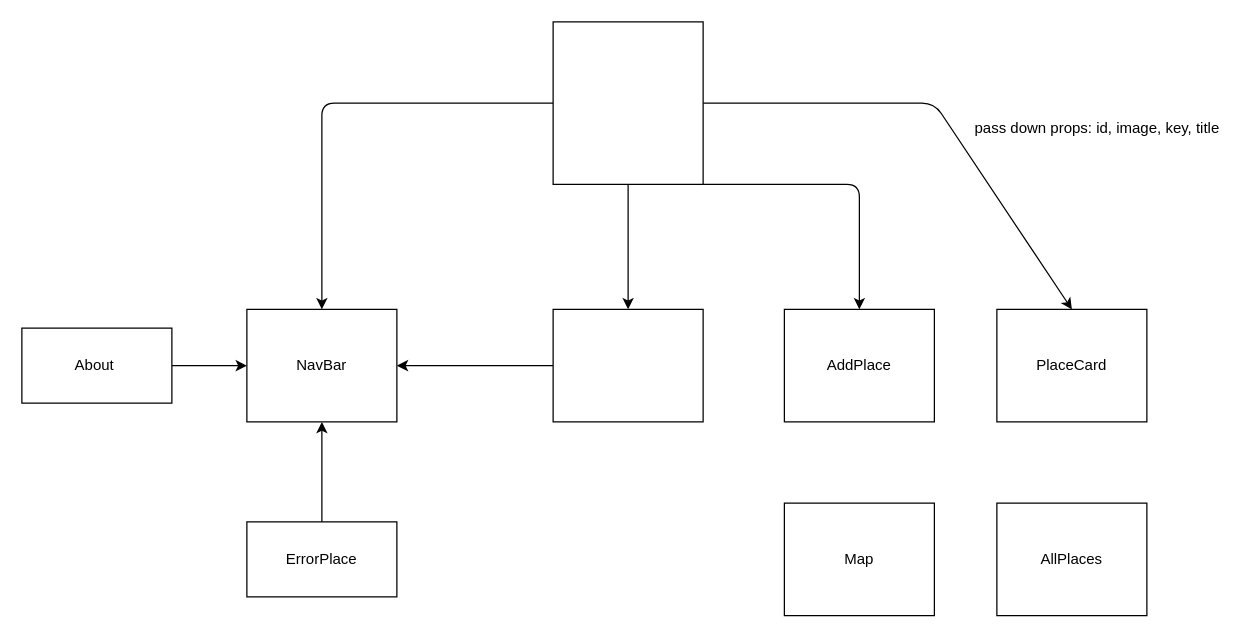
This 1256x638 diagram has some shape labels left out. The shapes that lost their labels are listed below. From the top down, each one's centre as x and y in pixels, then its label:
At pixel 627 102: "Home state: places EFFECT".
At pixel 627 365: "Place".
